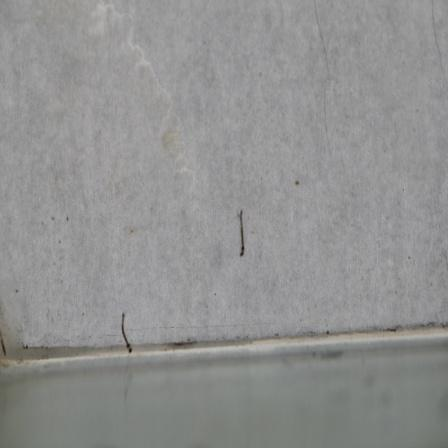Jentik-Nyamuk: (233, 207, 251, 260), (118, 313, 138, 355)
